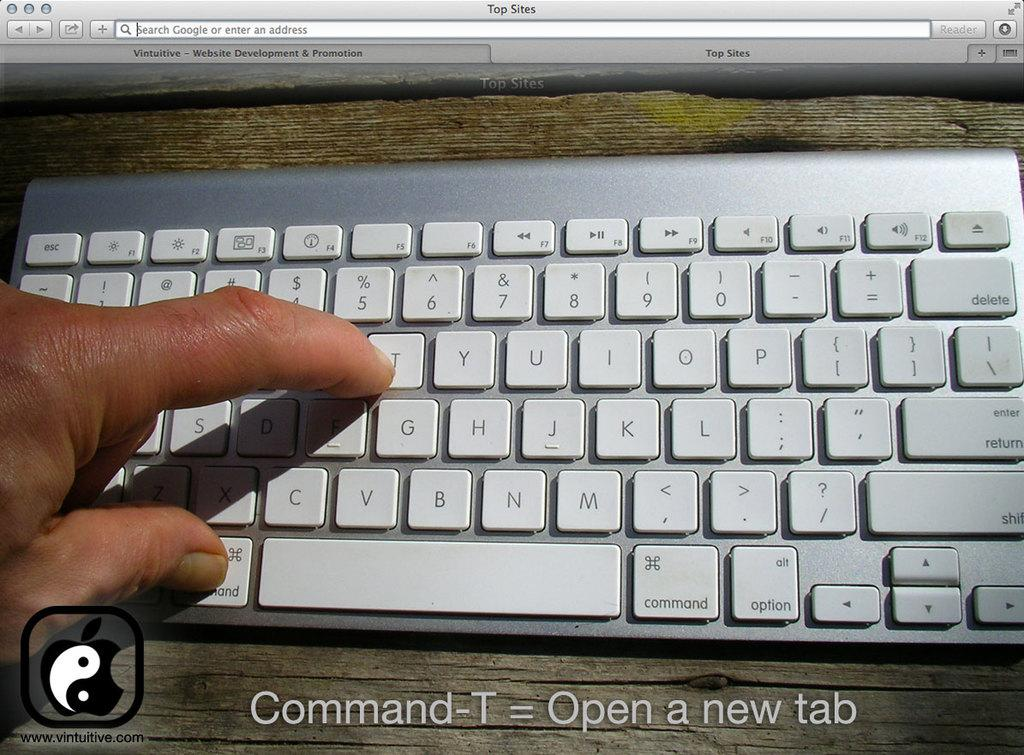Computer-keyboard: (9, 149, 1023, 642)
